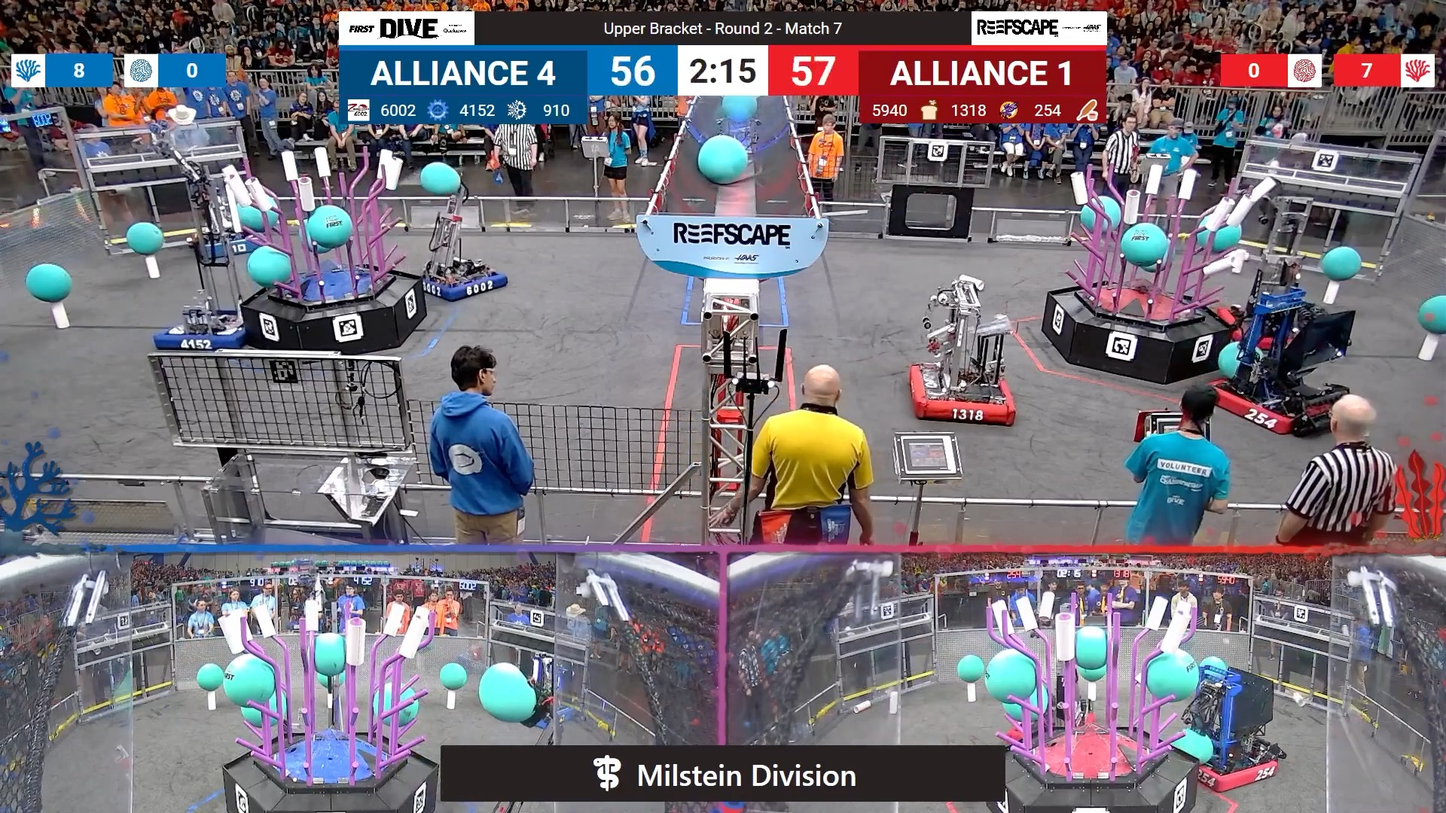bumpers: (1194, 368, 1354, 442), (905, 365, 1023, 432), (1176, 743, 1285, 791), (156, 305, 252, 352), (412, 262, 517, 303), (188, 238, 268, 267)
